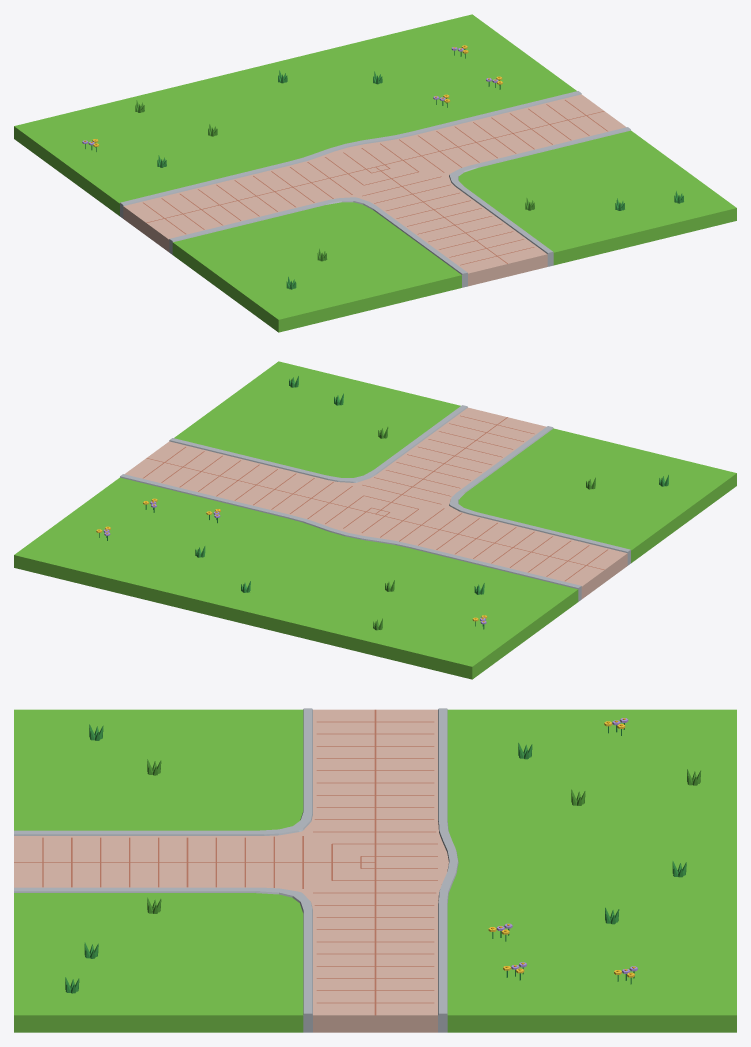
File: caminho_parque_t.glb
3 renders of one model, top to bottom at view 1: azimuth 30°, elevation 25°; view 2: azimuth 150°, elevation 25°; view 3: azimuth 270°, elevation 25°, orthographic. The views are drawn at different scales.
Parts seen in each view (by area): view 1: caminho_parque_t; view 2: caminho_parque_t; view 3: caminho_parque_t.
Boxes of the visible parts, <box> form: caminho_parque_t: <box>14,14,736,332</box>; caminho_parque_t: <box>14,361,736,679</box>; caminho_parque_t: <box>14,708,736,1032</box>.
Size of the model in its own units: 15 by 0.6825 by 15.
1 material, 1 textured.
